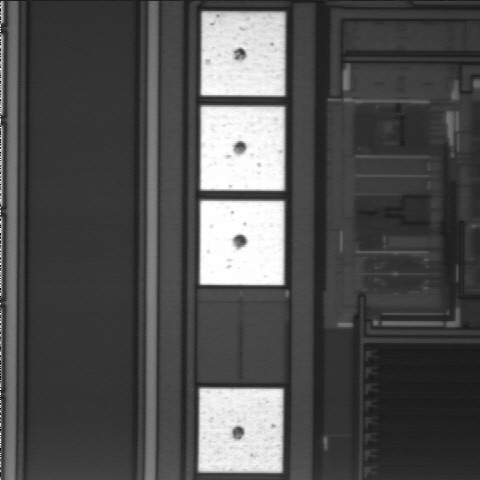pad: (200, 106, 285, 191), (199, 388, 283, 473), (201, 12, 285, 96), (200, 201, 284, 285)
